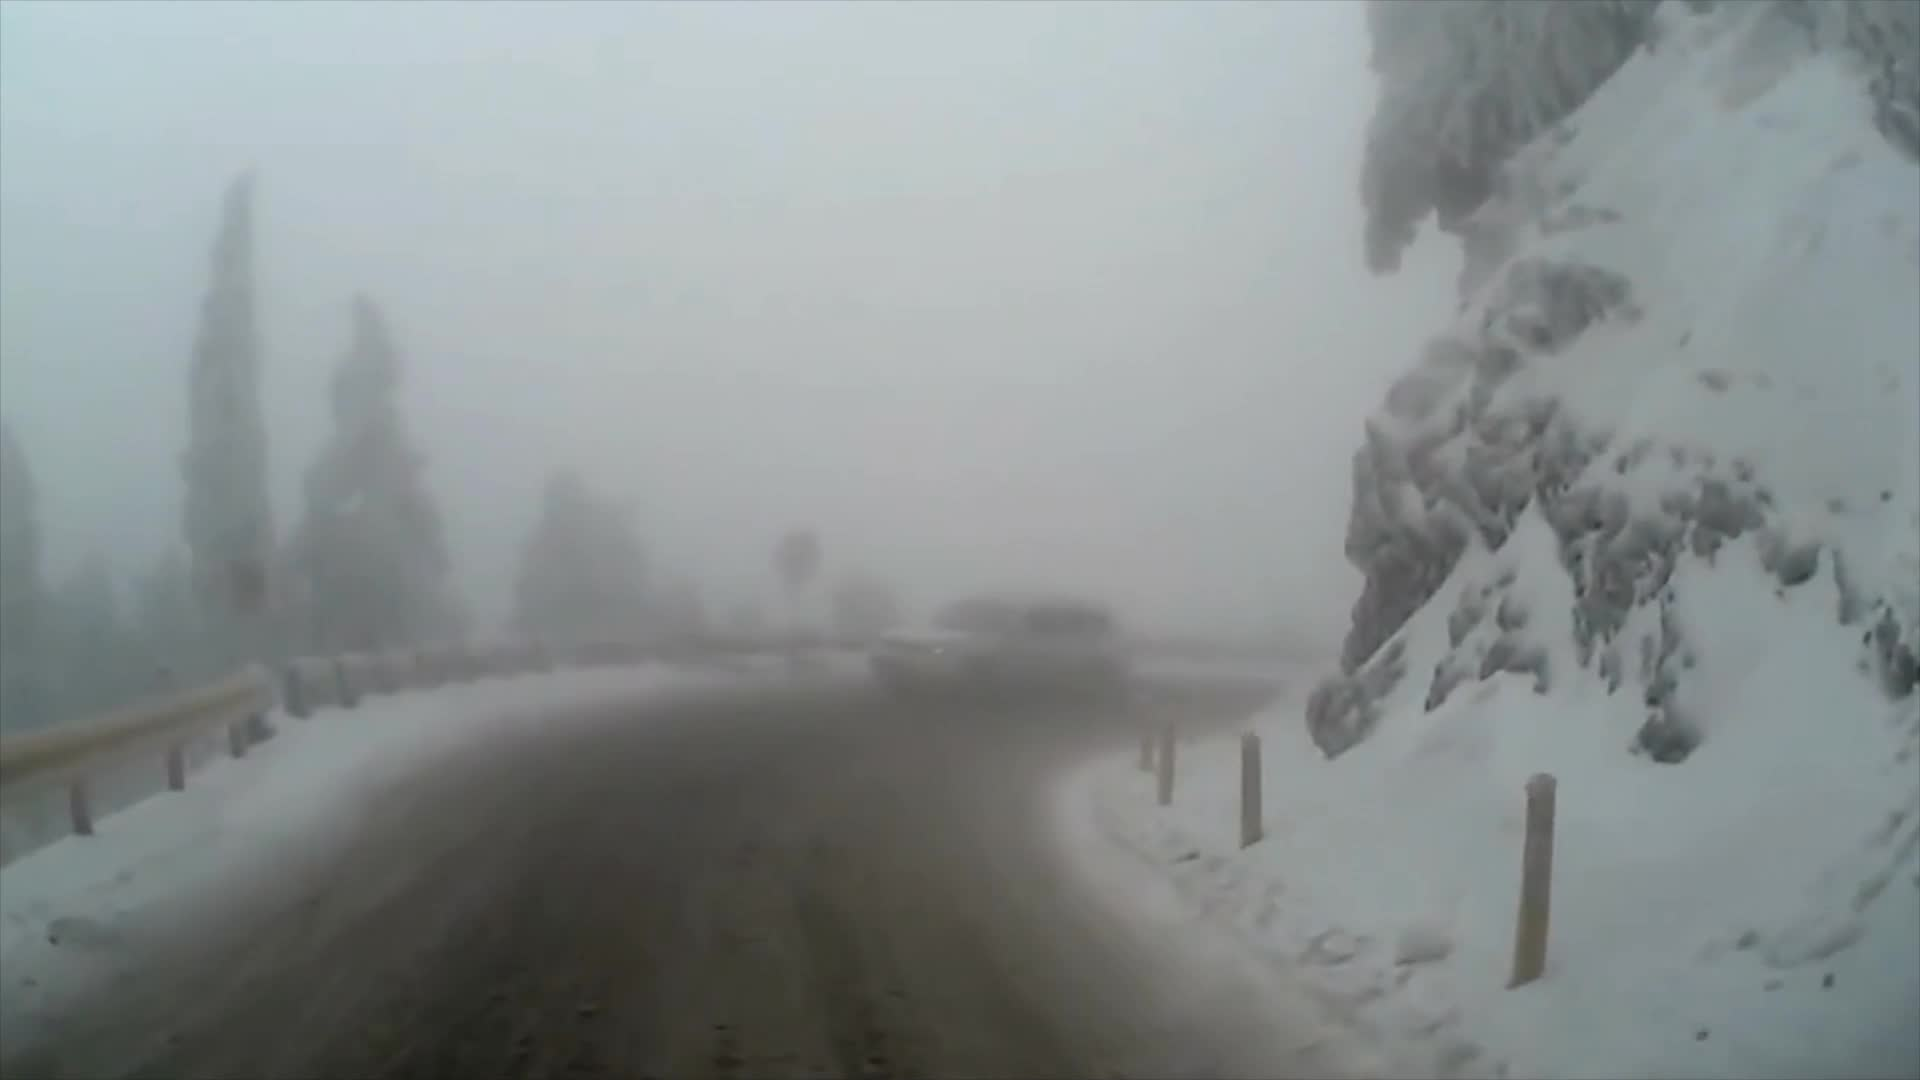vehicle: (865, 589, 1131, 713)
